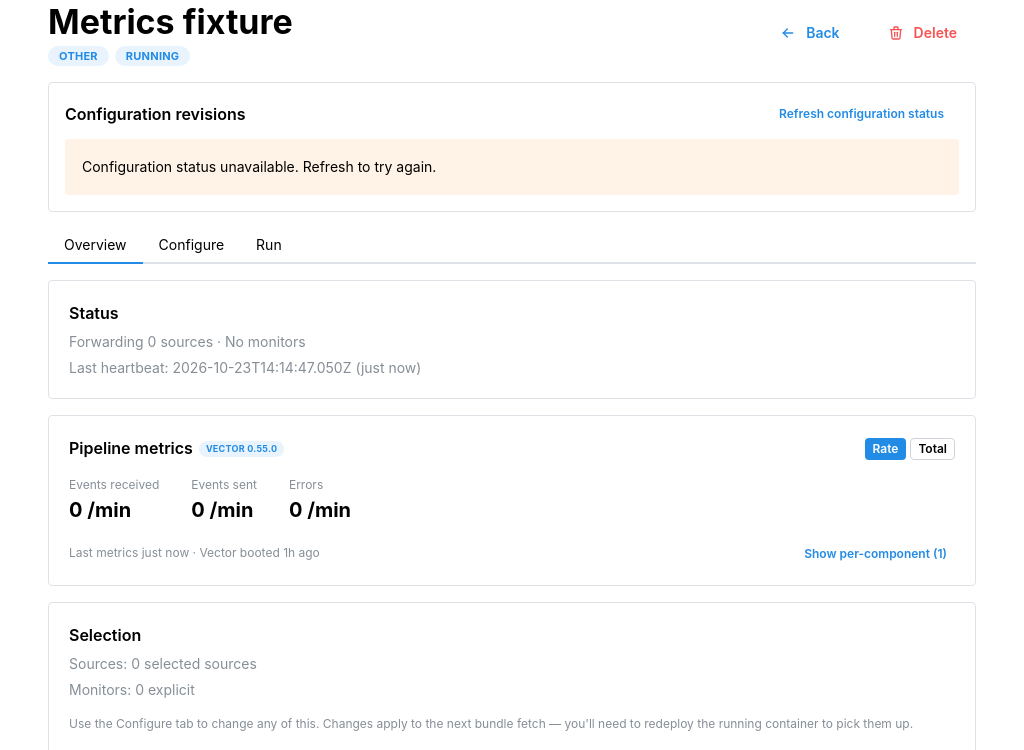
Test: renders transform throughput from received counters without adding it to headline log volume
Step 1. Click the button "Show per-component (1)" → (876, 554), box x1=796 y1=543 x2=955 y2=565
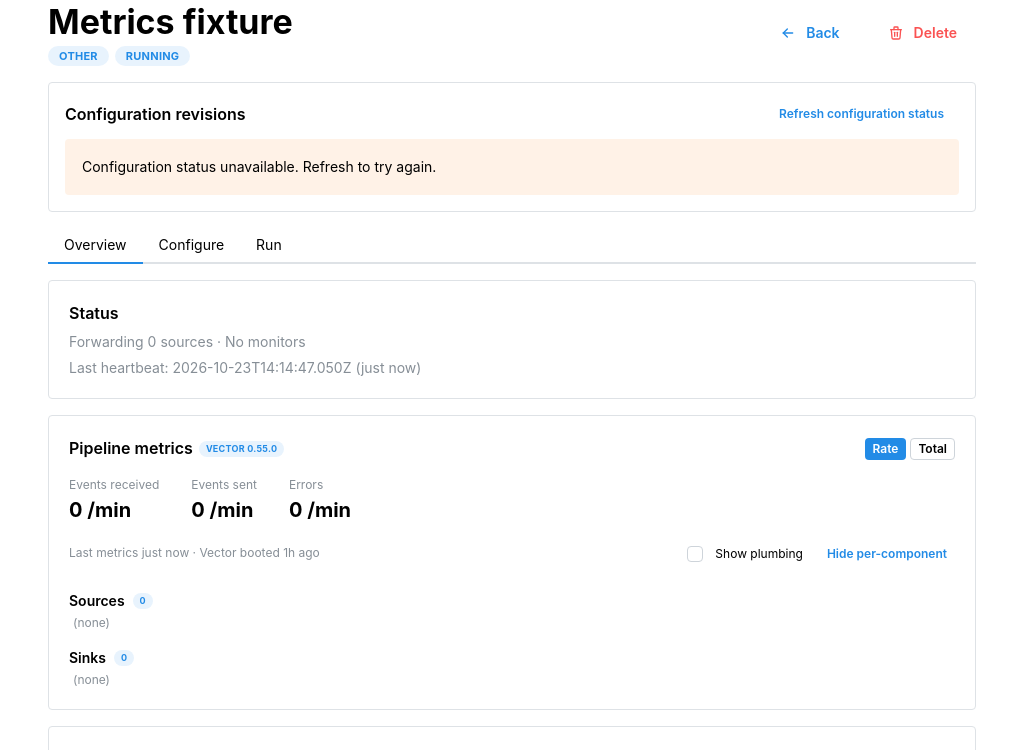
Step 2. Click the checkbox labelled "Show plumbing" → (695, 554), box x1=687 y1=546 x2=703 y2=562
(page scrolled)
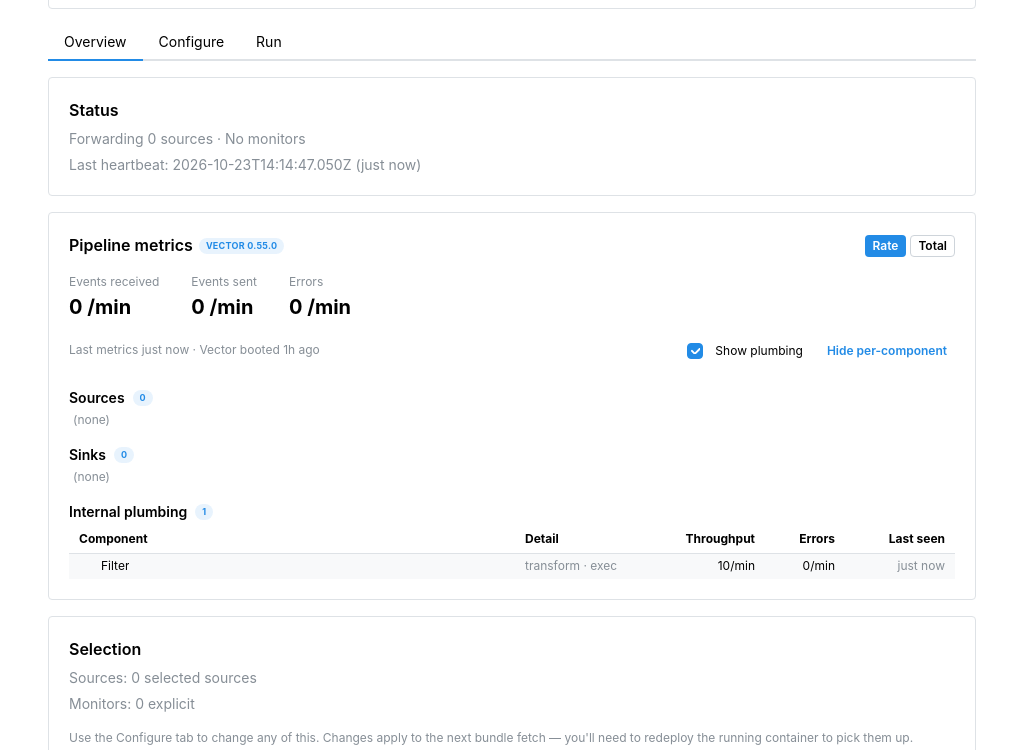
Result: the text "10/min" is shown at x1=718 y1=558 x2=755 y2=573
Result: the text "0/min" is shown at x1=803 y1=558 x2=835 y2=573
